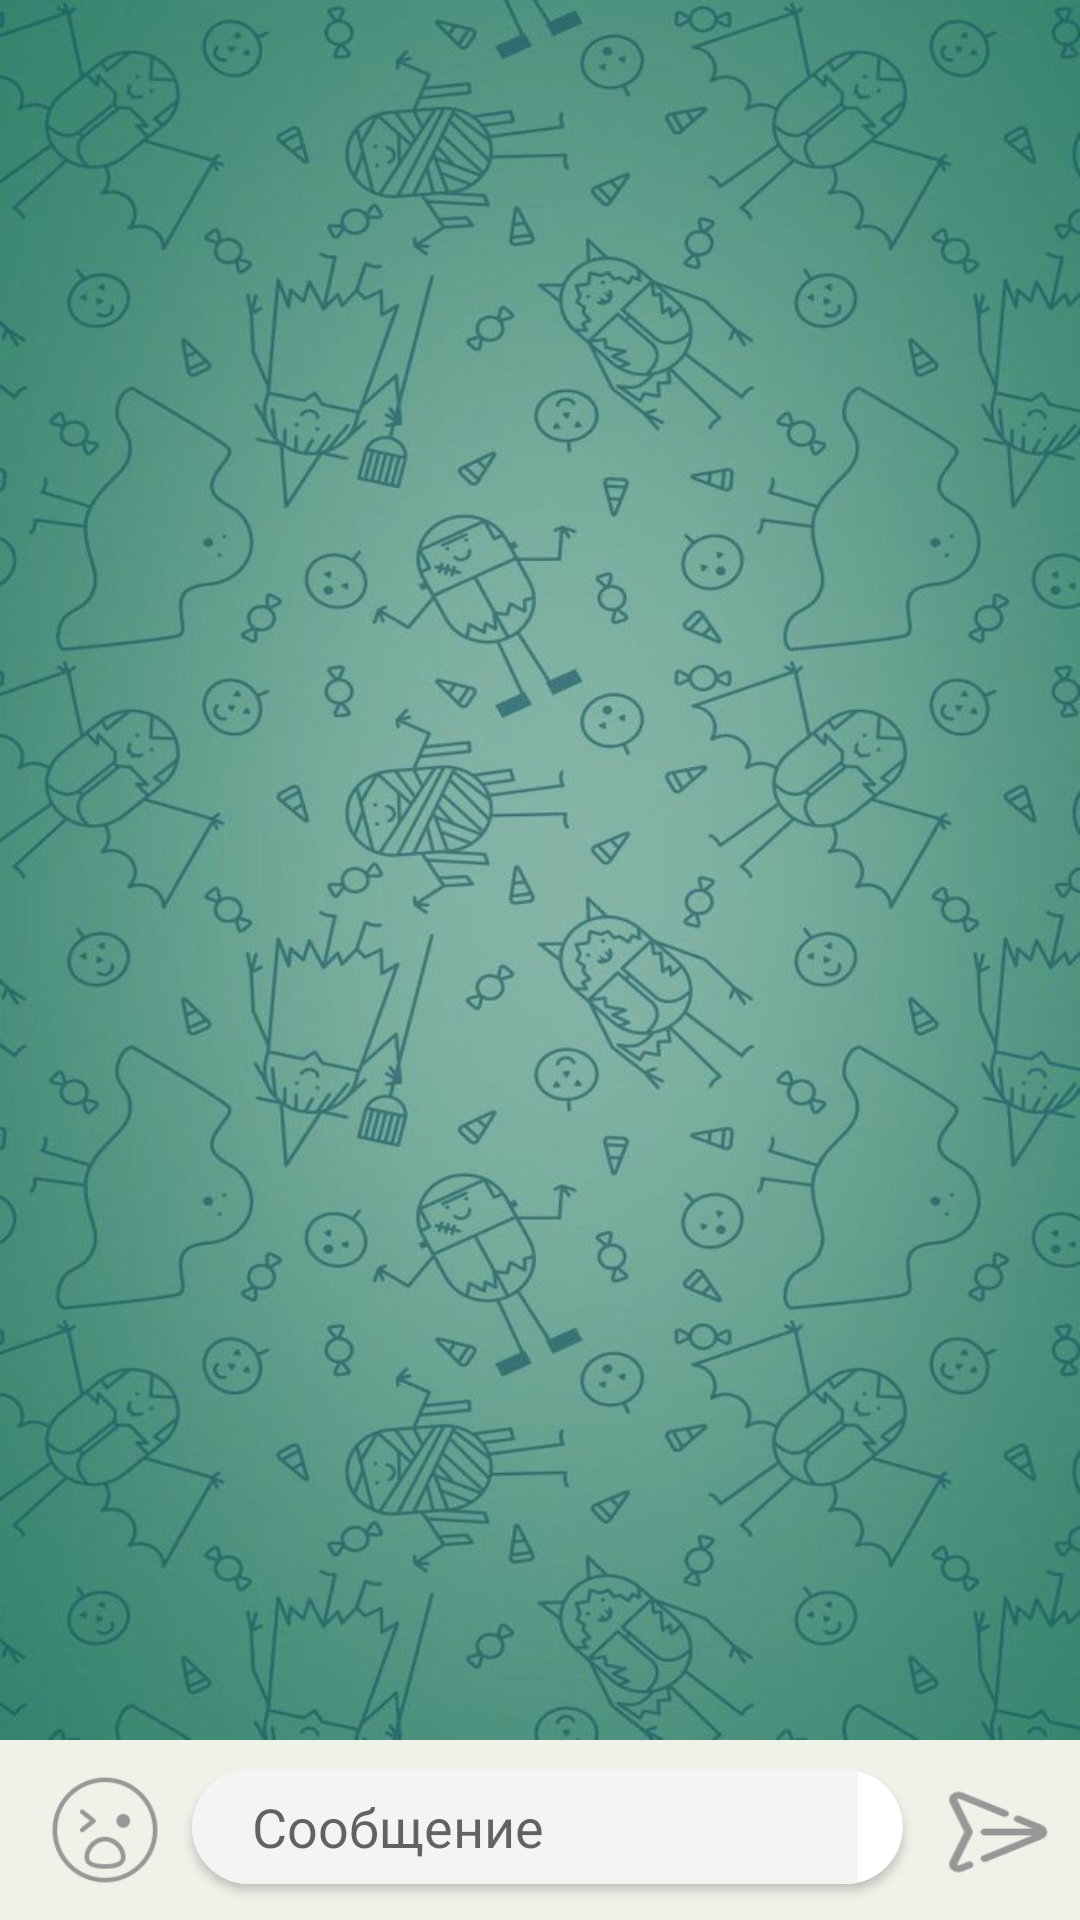

Locate icon controls on the screen. Image size 1080w x 1920h, boxes as (x1, y1, x2, y2).
emoji: (52, 1777, 158, 1883)
send: (949, 1791, 1047, 1873)
